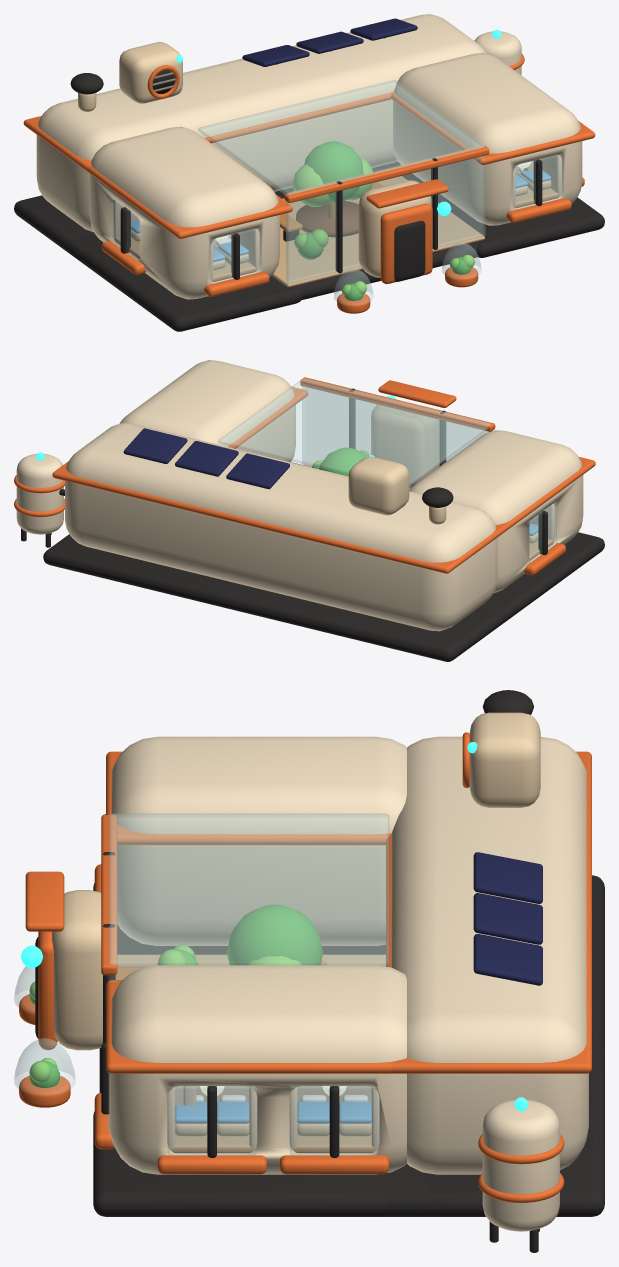
The model's file is home-c-10.glb.
The picture shows the model from 3 angles, top to bottom: view 1: azimuth 30°, elevation 25°; view 2: azimuth 150°, elevation 25°; view 3: azimuth 270°, elevation 25°; orthographic projection. The views are drawn at different scales.
Parts seen in each view (by area): view 1: Cube.003, Cube.005, Cube.004, Cube.083, Cube.082, Cube.001, Cube.075, Cube.002, Cube.091, Cube, Cube.087, Cube.086 (+34 smaller); view 2: Cube.003, Cube.083, Cube, Cube.004, Cube.005, Cube.082, Cube.087, Cube.006, Cube.001, Cube.091, Cylinder.007, Cube.086 (+11 smaller); view 3: Cube.003, Cube.004, Cube.083, Cube.005, Cube.002, Cube, Cylinder.007, Cube.087, Cube.091, Cube.071, Cube.058, Cube.006 (+27 smaller).
Boxes of the visible parts, x1=… form: Cube.003: x1=36, y1=14, x2=487, y2=232; Cube.005: x1=393, y1=53, x2=582, y2=225; Cube.004: x1=89, y1=126, x2=279, y2=299; Cube.083: x1=198, y1=80, x2=484, y2=194; Cube.082: x1=286, y1=145, x2=485, y2=283; Cube.001: x1=68, y1=235, x2=302, y2=331; Cube.075: x1=272, y1=176, x2=484, y2=287; Cube.002: x1=378, y1=162, x2=604, y2=257; Cube.091: x1=119, y1=42, x2=182, y2=103; Cube: x1=14, y1=167, x2=381, y2=262; Cube.087: x1=358, y1=180, x2=431, y2=277; Cube.086: x1=284, y1=145, x2=489, y2=203; Cube.003: x1=65, y1=423, x2=497, y2=631; Cube.083: x1=218, y1=377, x2=490, y2=485; Cube: x1=43, y1=534, x2=517, y2=661; Cube.004: x1=409, y1=430, x2=583, y2=593; Cube.005: x1=119, y1=360, x2=295, y2=462; Cube.082: x1=302, y1=378, x2=490, y2=489; Cube.087: x1=371, y1=405, x2=439, y2=488; Cube.006: x1=52, y1=461, x2=509, y2=573; Cube.001: x1=481, y1=532, x2=604, y2=622; Cube.091: x1=348, y1=456, x2=409, y2=515; Cylinder.007: x1=16, y1=453, x2=63, y2=534; Cube.086: x1=300, y1=377, x2=495, y2=431; Cube.003: x1=391, y1=736, x2=588, y2=1174; Cube.004: x1=111, y1=736, x2=406, y2=945; Cube.083: x1=109, y1=813, x2=389, y2=968; Cube.005: x1=109, y1=965, x2=406, y2=1174; Cube.002: x1=93, y1=1111, x2=428, y2=1216; Cube: x1=385, y1=875, x2=604, y2=1216; Cylinder.007: x1=482, y1=1100, x2=559, y2=1231; Cube.087: x1=52, y1=890, x2=102, y2=1050; Cube.091: x1=469, y1=712, x2=540, y2=807; Cube.071: x1=289, y1=1086, x2=379, y2=1155; Cube.058: x1=167, y1=1086, x2=257, y2=1155; Cube.006: x1=386, y1=751, x2=591, y2=1073.
Bounding box in the file's own units: 2.68 × 0.86 × 1.84.
